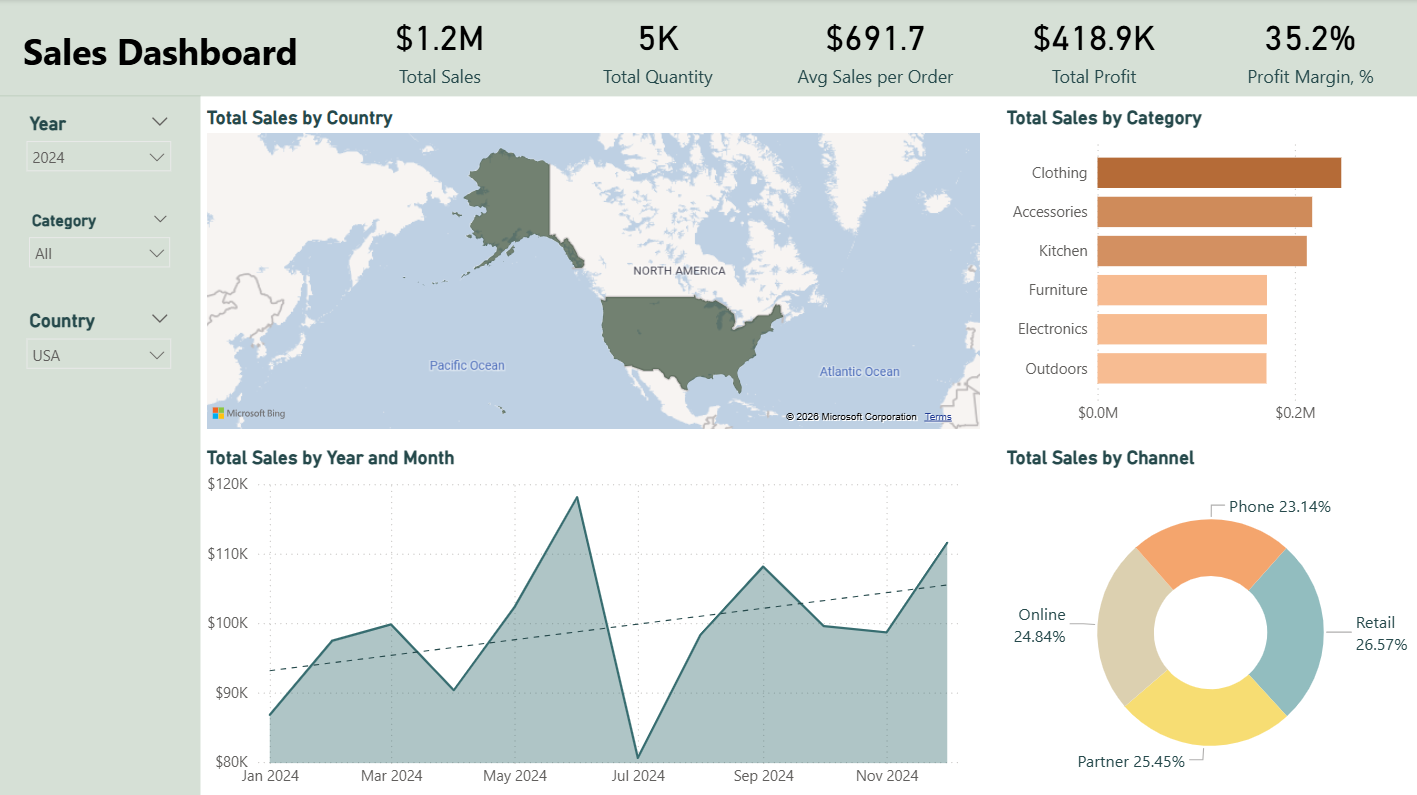

The page's visual inventory and layout, read from the dashboard file:
{"tool":"powerbi","page":{"name":"Sales Dashboard","canvas":[1280,720],"ordinal":0},"visuals":[{"type":"shape","box":[0,86.8,181,632.2],"z":0},{"type":"shape","box":[0,0,1280.3,87.8],"z":1000},{"type":"card","fields":{"Values":["_Measures.Total Sales"]},"box":[299.1,0,196.2,87.8],"z":2000},{"type":"clusteredBarChart","fields":{"Y":["_Measures.Total Sales"],"Category":["DimProduct.Category","DimProduct.SubCategory"]},"box":[902.5,96.6,377.9,295.9],"z":3000},{"type":"filledMap","title":"Total Sales by Country","fields":{"Category":["DimGeography.Country"]},"box":[181,96.6,706.8,295.9],"z":4000},{"type":"lineChart","fields":{"Category":["FactSales.OrderDateKey.Variation.Date Hierarchy.Year","FactSales.OrderDateKey.Variation.Date Hierarchy.Month"],"Y":["_Measures.Total Sales"]},"box":[181,403.5,706.8,316.7],"z":5000},{"type":"donutChart","fields":{"Y":["_Measures.Total Sales"],"Category":["FactSales.Channel"]},"box":[902.5,403.5,377.9,316.7],"z":6000},{"type":"textbox","box":[15.9,20.8,270.2,66],"z":7000},{"type":"slicer","fields":{"Values":["FactSales.OrderDateKey.Variation.Date Hierarchy.Year"]},"box":[13.5,96.6,150.4,73.4],"z":8000},{"type":"slicer","fields":{"Values":["DimProduct.Category"]},"box":[15.9,185.9,148,68.5],"z":9000},{"type":"slicer","fields":{"Values":["DimGeography.Country"]},"box":[13.5,275.1,150.4,63.6],"z":10000},{"type":"card","fields":{"Values":["_Measures.Total Quantity"]},"box":[494.3,0,197.1,87.1],"z":11000},{"type":"card","fields":{"Values":["_Measures.Avg Sales per Order"]},"box":[691.4,0,197.1,87.1],"z":12000},{"type":"card","fields":{"Values":["_Measures.Total Profit"]},"box":[888.6,0,197.1,87.1],"z":13000},{"type":"card","fields":{"Values":["_Measures.Profit Margin %"]},"box":[1082.9,0,197.1,87.1],"z":14000}]}

Visuals, with their boxes in screenshot pixels (x1, y1, x2, y2), scaled from the page's 1280x720 canvas onto the 1417x795 screenshot:
shape: [0,96,200,794]
shape: [0,0,1416,97]
card - _Measures.Total Sales: [331,0,548,97]
clusteredBarChart - _Measures.Total Sales x DimProduct.Category: [999,107,1416,433]
"Total Sales by Country" filledMap: [200,107,983,433]
lineChart - FactSales.OrderDateKey.Variation.Date Hierarchy.Year x FactSales.OrderDateKey.Variation.Date Hierarchy.Month: [200,446,983,794]
donutChart - _Measures.Total Sales x FactSales.Channel: [999,446,1416,794]
textbox: [18,23,317,96]
slicer - FactSales.OrderDateKey.Variation.Date Hierarchy.Year: [15,107,181,188]
slicer - DimProduct.Category: [18,205,181,281]
slicer - DimGeography.Country: [15,304,181,374]
card - _Measures.Total Quantity: [547,0,765,96]
card - _Measures.Avg Sales per Order: [765,0,984,96]
card - _Measures.Total Profit: [984,0,1202,96]
card - _Measures.Profit Margin %: [1199,0,1416,96]
